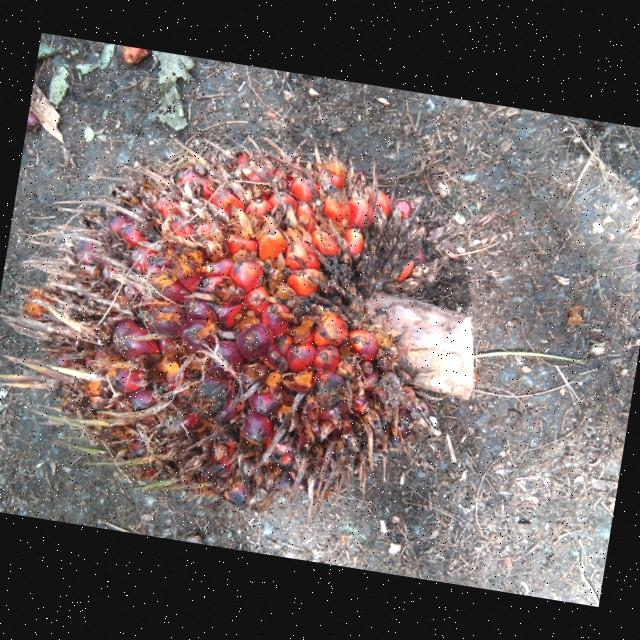Ripe: (42, 142, 428, 499)
